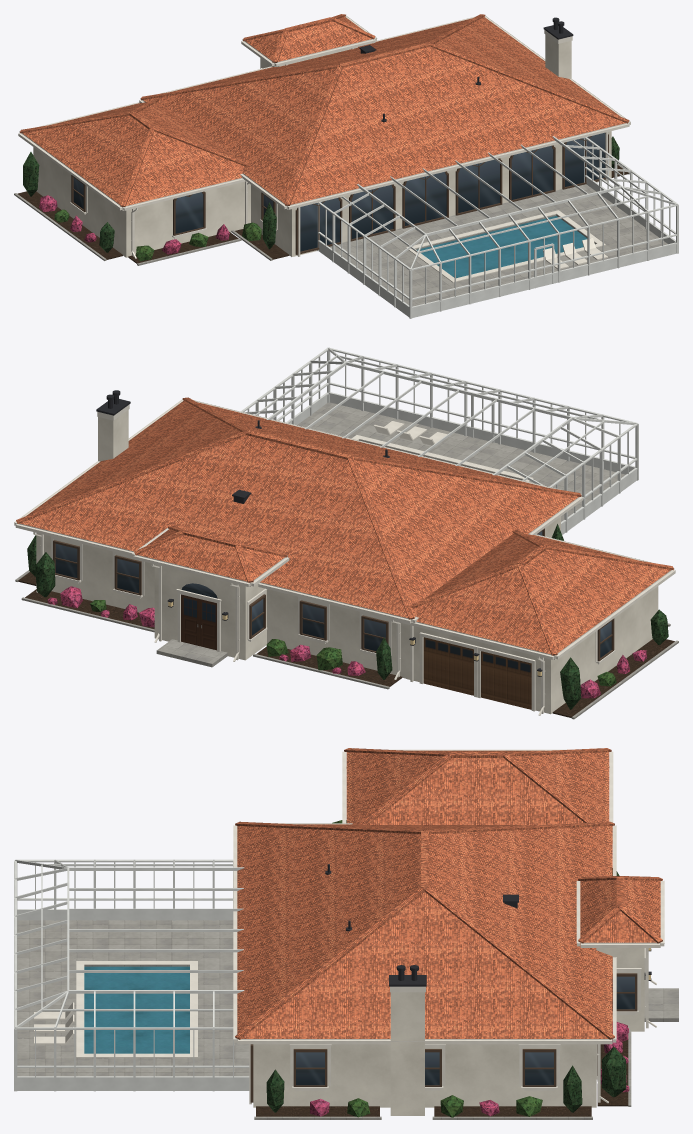
File: med_villa_cage.fbx
The picture shows the model from 3 angles, top to bottom: view 1: azimuth 30°, elevation 25°; view 2: azimuth 150°, elevation 25°; view 3: azimuth 270°, elevation 25°; orthographic projection. The views are drawn at different scales.
Visible parts, largest first — view 1: med_villa_cage_LOD0; view 2: med_villa_cage_LOD0; view 3: med_villa_cage_LOD0.
Part boxes in pixels (<box>): med_villa_cage_LOD0: <box>14,14,678,318</box>; med_villa_cage_LOD0: <box>14,347,678,719</box>; med_villa_cage_LOD0: <box>14,748,678,1119</box>.
Size of what is drawn, in the model's own units: 27.24 by 6.2 by 25.17.
2 materials, 2 textured.
